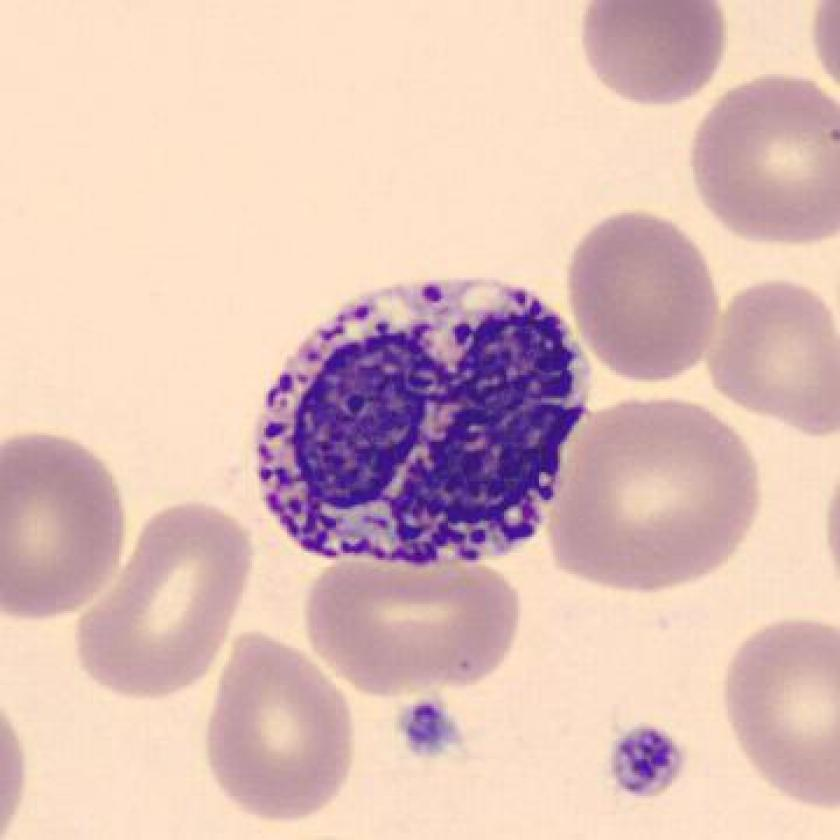basophil: (251, 272, 591, 575)
